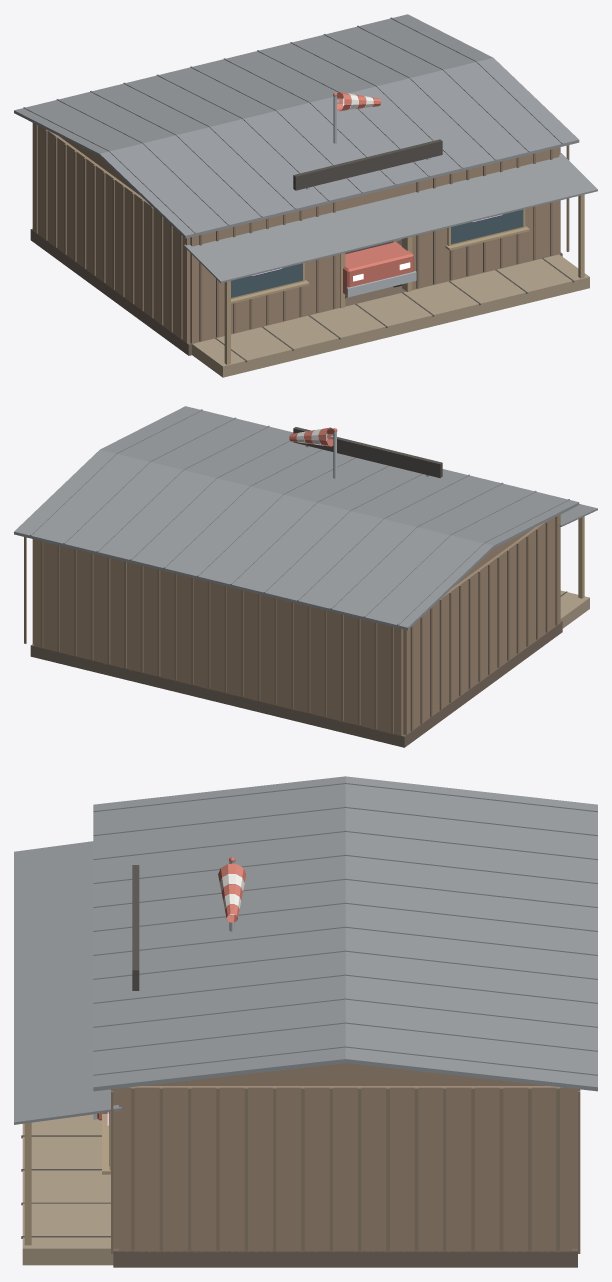
Rendered from ready_room.glb.
3 views of the same model, one above another, from view 1: azimuth 30°, elevation 25°; view 2: azimuth 150°, elevation 25°; view 3: azimuth 270°, elevation 25° (orthographic). The views are drawn at different scales.
Parts seen in each view (by area): view 1: rr_shell_mesh, rr_pickup_mesh, rr_sock_mesh; view 2: rr_shell_mesh, rr_sock_mesh; view 3: rr_shell_mesh, rr_sock_mesh.
Part boxes in pixels (bbox=[...]): rr_shell_mesh: bbox=[14, 14, 597, 377]; rr_pickup_mesh: bbox=[343, 241, 416, 298]; rr_sock_mesh: bbox=[333, 92, 381, 143]; rr_shell_mesh: bbox=[14, 406, 597, 747]; rr_sock_mesh: bbox=[289, 427, 337, 478]; rr_shell_mesh: bbox=[14, 776, 597, 1267]; rr_sock_mesh: bbox=[218, 857, 246, 931].
Bounding box in the file's own units: 11.8 × 5.38 × 10.3.
